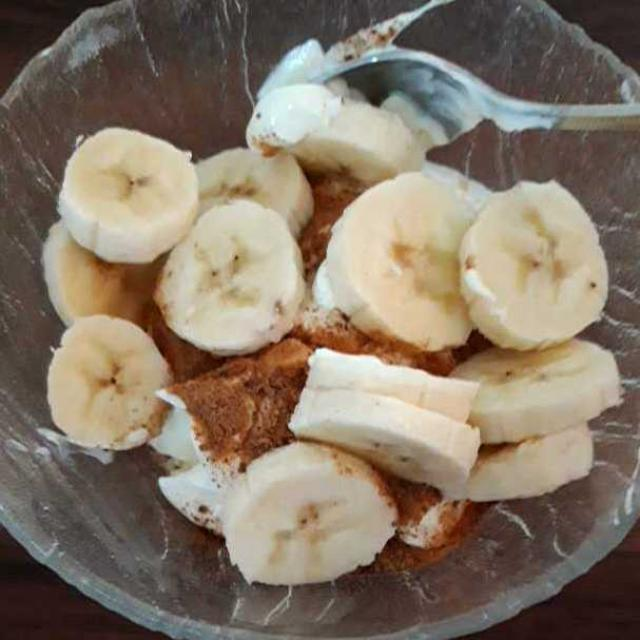banana: (49, 83, 628, 571)
